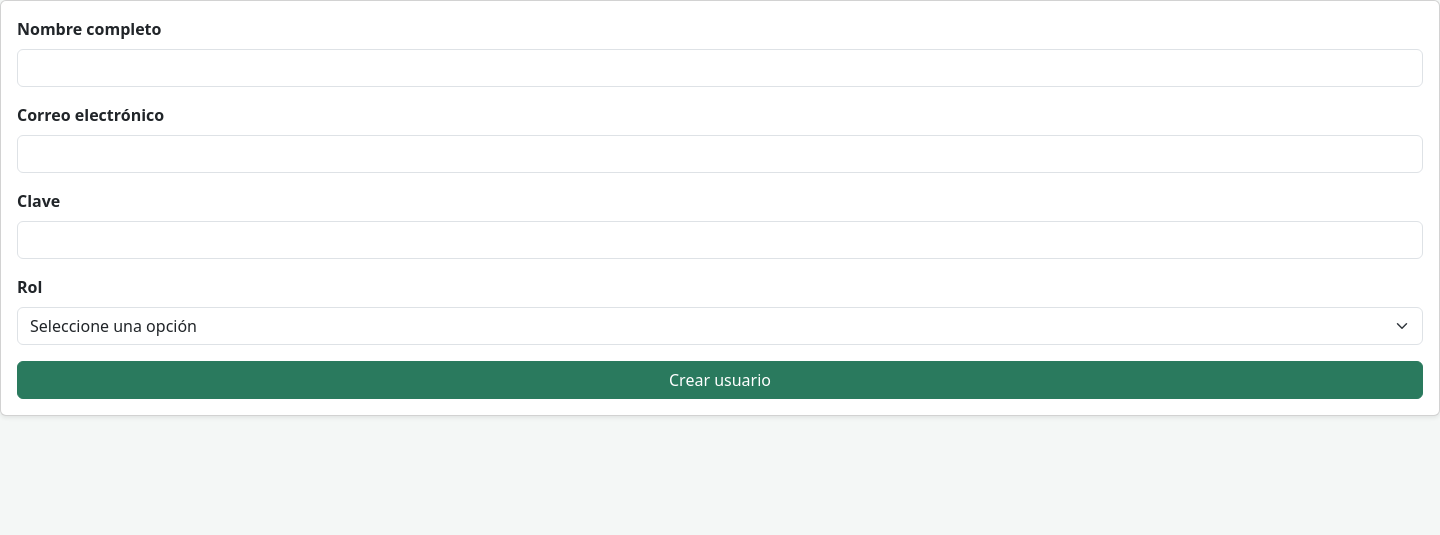
Scenario: FormularioUsuario › al crear, muestra los errores y NO avisa si está vacío
Click the button "Crear usuario": click(720, 380) [17,361,1423,399]
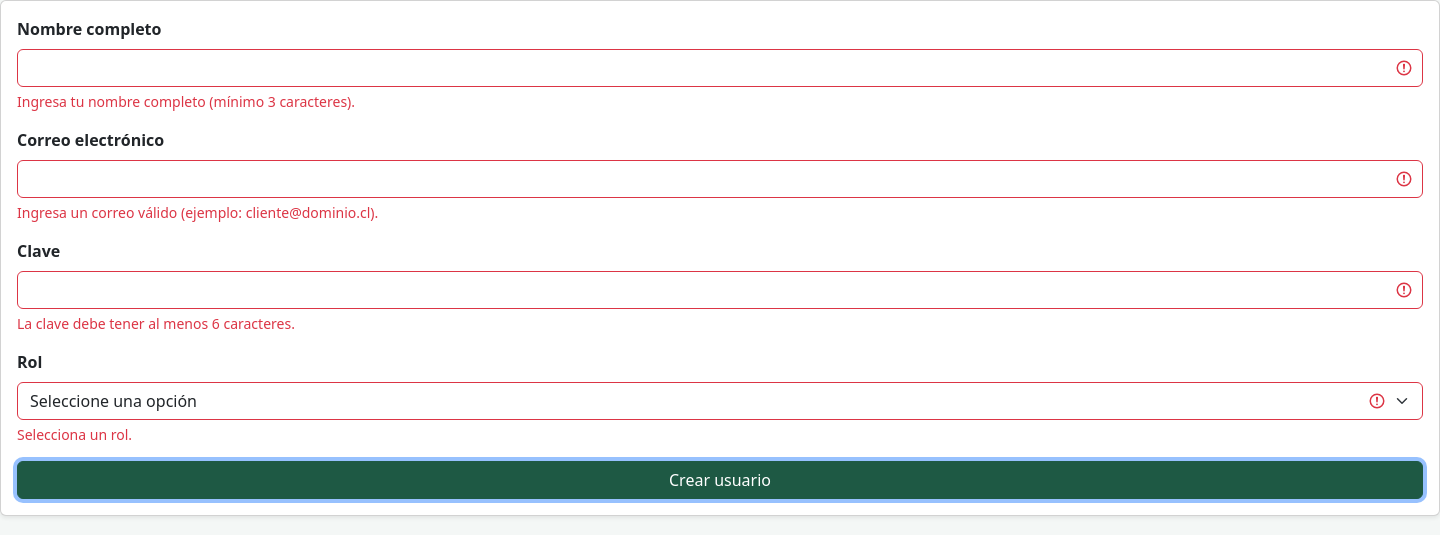
Expected: the number of messages is 4, [17,92,355,111]; [17,203,378,222]; [17,314,295,333]; [17,425,132,444]
